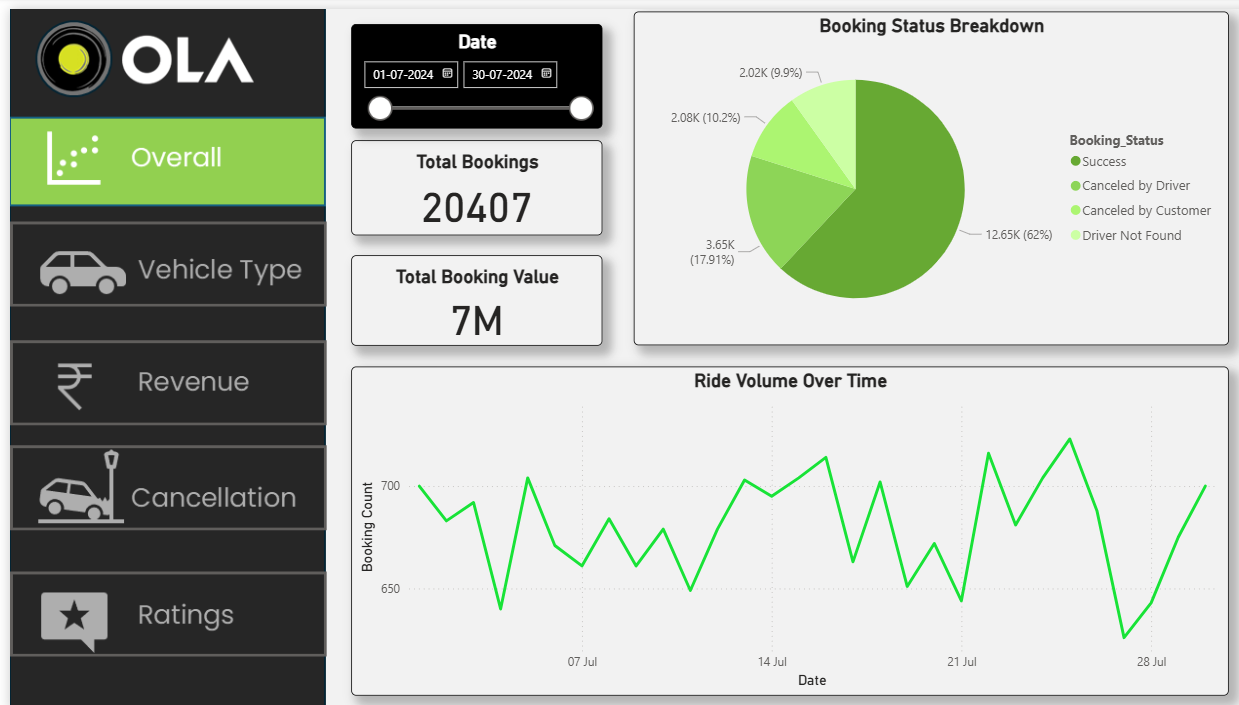

What the dashboard file says about the page in this screenshot:
{"tool":"powerbi","page":{"name":"Overall","canvas":[1280,720],"ordinal":0},"visuals":[{"type":"actionButton","box":[0,217.5,325,87.5],"z":0},{"type":"actionButton","box":[0,340,325,87.5],"z":1000},{"type":"actionButton","box":[0,447.5,325,87.5],"z":2000},{"type":"actionButton","box":[0,577.5,325,87.5],"z":3000},{"type":"lineChart","title":"Ride Volume Over Time","fields":{"Y":["CountNonNull(July.Booking_ID)"],"Category":["July.Date"]},"box":[350,366.2,900,337.5],"z":4000},{"type":"pieChart","title":"Booking Status Breakdown","fields":{"Category":["July.Booking_Status"],"Y":["CountNonNull(July.Booking_Status)"]},"box":[640,2.5,610,342.5],"z":5000},{"type":"slicer","title":"Date","fields":{"Values":["July.Date"]},"box":[350,15,257.5,107.5],"z":6000},{"type":"card","title":"Total Bookings","fields":{"Values":["CountNonNull(July.Booking_ID)"]},"box":[350,135,257.5,97.5],"z":7000},{"type":"card","title":"Total Booking Value","fields":{"Values":["Sum(July.Booking_Value)"]},"box":[350,252.5,257.5,92.5],"z":8000}]}

Visuals, with their boxes in screenshot pixels (x1, y1, x2, y2), scaled from the page's 1280x720 canvas onto the 1239x705 screenshot:
actionButton: box(0, 213, 315, 299)
actionButton: box(0, 333, 315, 419)
actionButton: box(0, 438, 315, 524)
actionButton: box(0, 565, 315, 651)
"Ride Volume Over Time" lineChart: box(339, 359, 1210, 689)
"Booking Status Breakdown" pieChart: box(620, 2, 1210, 338)
"Date" slicer: box(339, 15, 588, 120)
"Total Bookings" card: box(339, 132, 588, 228)
"Total Booking Value" card: box(339, 247, 588, 338)
